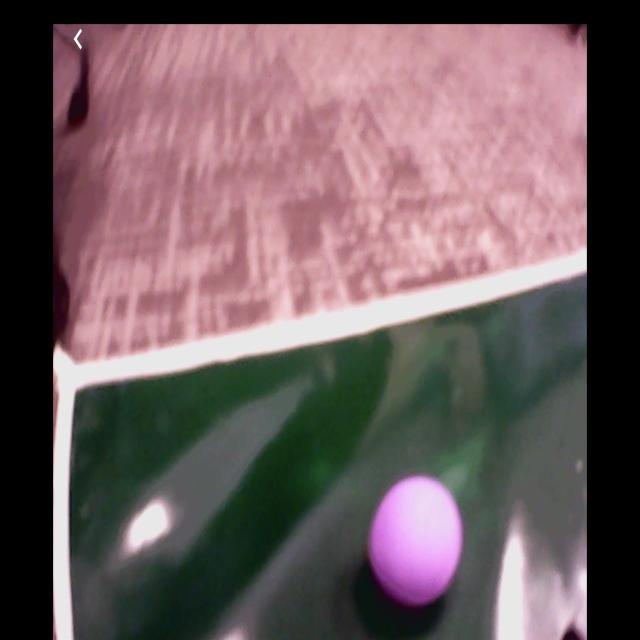ball: (367, 476, 464, 607)
